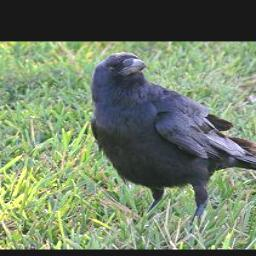Crow: (91, 51, 256, 229)
